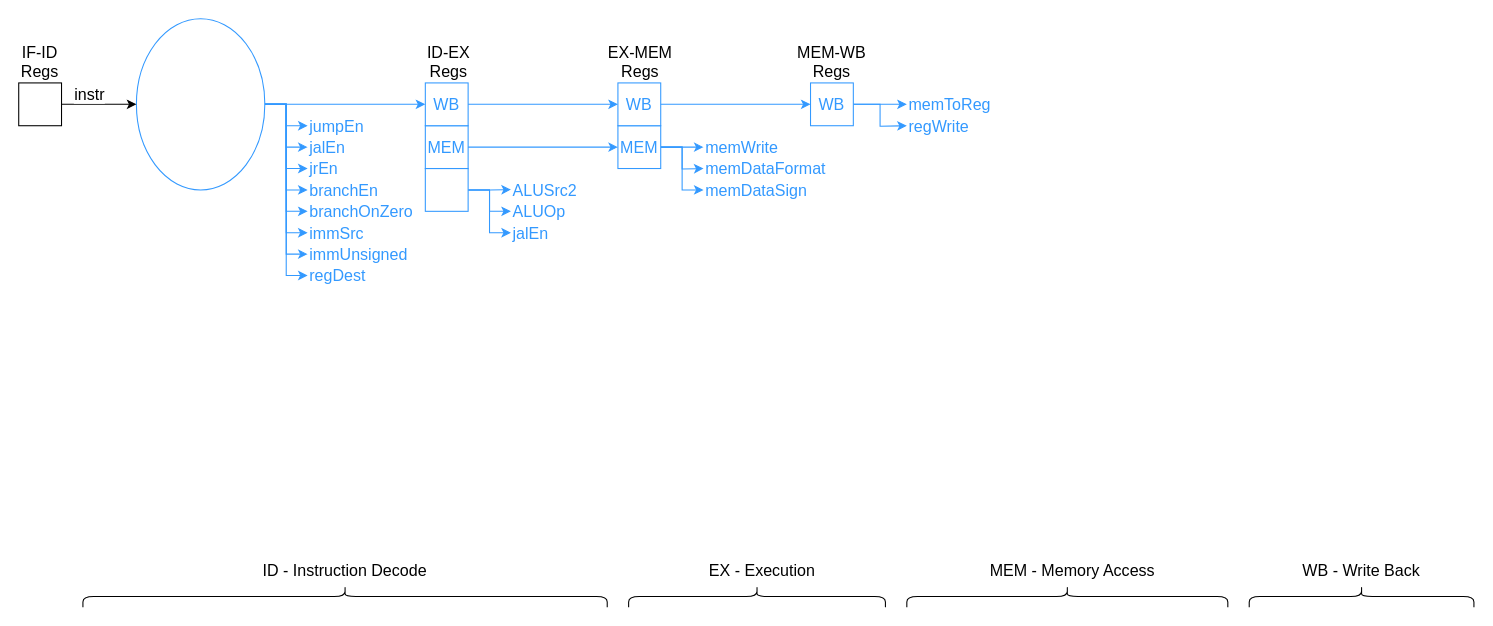
Some shapes in this 1493 by 626 pixel diagram are drawn without their labels. The shapes that lost their labels are listed below. From the top down, each one's centre as x and y in pixels, then its label:
the point at 200,104: Control Unit
the point at 446,189: EX
